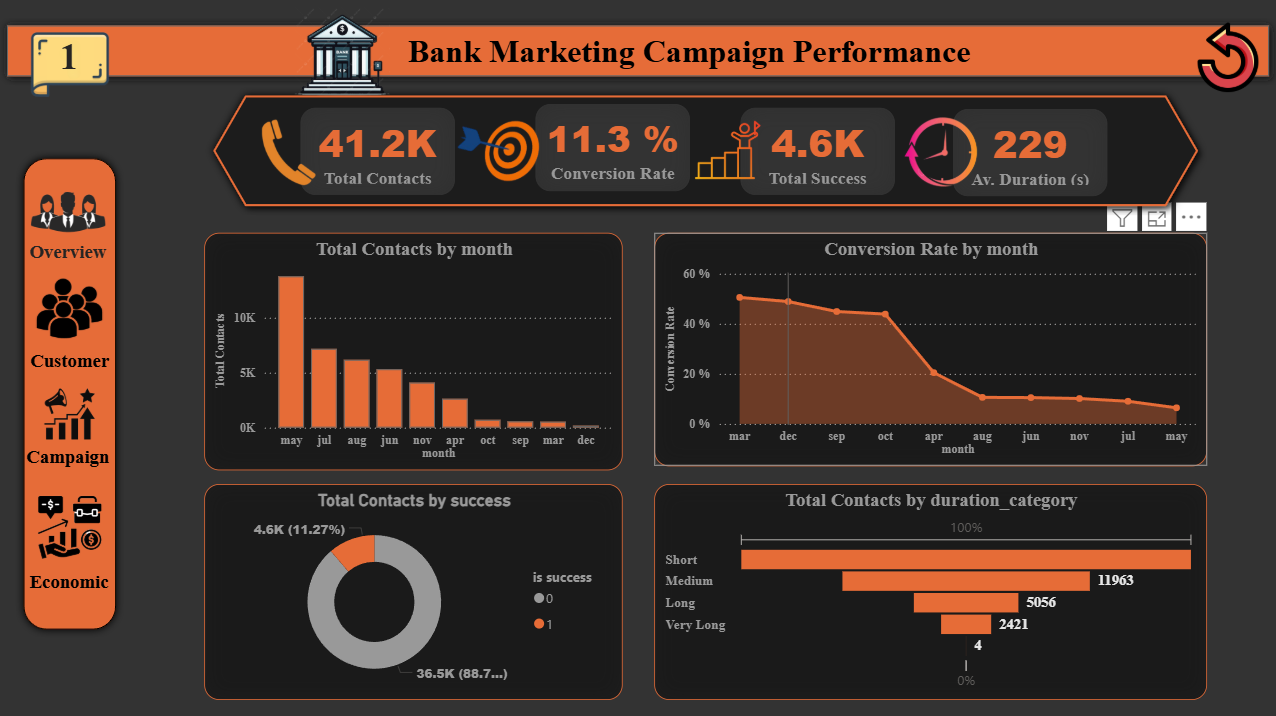

What the dashboard file says about the page in this screenshot:
{"tool":"powerbi","page":{"name":"Overview","canvas":[1280,720],"ordinal":0},"visuals":[{"type":"group","id":"g1","title":"Group 1","box":[0,0,1280,141.2],"z":0},{"type":"card","fields":{"Values":["BM-Measures.Total Contacts"]},"box":[302.9,109.4,154.3,87.1],"z":0,"group":"g2"},{"type":"shape","box":[16.9,150.8,108.6,487.4],"z":0,"group":"g3"},{"type":"card","fields":{"Values":["BM-Measures.Conversion Rate"]},"box":[537.4,105.5,154.3,87.1],"z":1000,"group":"g2"},{"type":"lineChart","fields":{"Category":["DimDate.month"],"Y":["BM-Measures.Conversion Rate"]},"box":[656.2,233.8,552.5,233.8],"z":1000},{"type":"textbox","box":[21.4,237.2,97.1,41.4],"z":1000,"group":"g3"},{"type":"shape","box":[0,18.1,1280,68.8],"z":1500,"group":"g1"},{"type":"image","box":[0,0,143.6,141.2],"z":2000,"group":"g1"},{"type":"shape","box":[205.7,87.1,1002.9,128.6],"z":2000},{"type":"card","fields":{"Values":["BM-Measures.Total Success"]},"box":[742.9,109.1,154.3,87.1],"z":2000,"group":"g2"},{"type":"image","box":[21.7,166.5,97.7,94.1],"z":2000,"group":"g3"},{"type":"textbox","box":[35,31.4,72.4,55.5],"z":2500,"group":"g1"},{"type":"card","fields":{"Values":["BM-Measures.Average Duration"]},"box":[955.8,110.5,154.3,87.1],"z":2500,"group":"g2"},{"type":"image","box":[290.8,0,106.2,109.8],"z":3000,"group":"g1"},{"type":"group","id":"g2","title":"Group 3","box":[302.9,105.5,807.1,92.1],"z":3000},{"type":"image","box":[7.2,265.9,127.9,85.7],"z":3000,"group":"g3"},{"type":"textbox","box":[405.4,29,589.9,49.5],"z":3500,"group":"g1"},{"type":"image","box":[1179.9,19.3,100.1,79.6],"z":4000,"group":"g1"},{"type":"columnChart","fields":{"Category":["DimDate.month"],"Y":["BM-Measures.Total Contacts"]},"box":[206.2,233.8,418.8,237.5],"z":4000},{"type":"textbox","box":[18.6,345.4,105.7,34.3],"z":4000,"group":"g3"},{"type":"image","box":[0,351.6,143.6,115.8],"z":5000,"group":"g3"},{"type":"donutChart","title":"Total Contacts by success","fields":{"Category":["FactBankMarketing.is_success"],"Y":["BM-Measures.Total Contacts"]},"box":[206.2,485,418.8,216.2],"z":5000},{"type":"textbox","box":[15.7,441.5,107.1,35.7],"z":6000,"group":"g3"},{"type":"funnel","fields":{"Category":["FactBankMarketing.duration_category"],"Y":["BM-Measures.Total Contacts"]},"box":[656.2,485,552.5,216.2],"z":6000},{"type":"image","box":[250,105.7,81.4,94.3],"z":7000},{"type":"textbox","box":[22.9,567.2,97.1,40],"z":7000,"group":"g3"},{"type":"image","box":[447.1,100,105.7,104.3],"z":8000},{"type":"image","box":[33.8,490.3,76,79.6],"z":8000,"group":"g3"},{"type":"image","box":[677.1,112.9,104.3,77.1],"z":9000},{"type":"image","box":[868.6,84.3,148.6,138.6],"z":10000},{"type":"group","id":"g3","title":"Group 2","box":[0,150.8,143.6,487.4],"z":11000}]}

Visuals, with their boxes in screenshot pixels (x1, y1, x2, y2), scaled from the page's 1280x720 canvas onto the 1276x716 screenshot:
"Group 1" group: pyautogui.locateOnScreen(0, 0, 1275, 140)
card - BM-Measures.Total Contacts: pyautogui.locateOnScreen(302, 109, 456, 195)
shape: pyautogui.locateOnScreen(17, 150, 125, 635)
card - BM-Measures.Conversion Rate: pyautogui.locateOnScreen(536, 105, 690, 192)
lineChart - DimDate.month x BM-Measures.Conversion Rate: pyautogui.locateOnScreen(654, 233, 1205, 465)
textbox: pyautogui.locateOnScreen(21, 236, 118, 277)
shape: pyautogui.locateOnScreen(0, 18, 1275, 86)
image: pyautogui.locateOnScreen(0, 0, 143, 140)
shape: pyautogui.locateOnScreen(205, 87, 1205, 215)
card - BM-Measures.Total Success: pyautogui.locateOnScreen(741, 108, 894, 195)
image: pyautogui.locateOnScreen(22, 166, 119, 259)
textbox: pyautogui.locateOnScreen(35, 31, 107, 86)
card - BM-Measures.Average Duration: pyautogui.locateOnScreen(953, 110, 1107, 197)
image: pyautogui.locateOnScreen(290, 0, 396, 109)
"Group 3" group: pyautogui.locateOnScreen(302, 105, 1107, 197)
image: pyautogui.locateOnScreen(7, 264, 135, 350)
textbox: pyautogui.locateOnScreen(404, 29, 992, 78)
image: pyautogui.locateOnScreen(1176, 19, 1275, 98)
columnChart - DimDate.month x BM-Measures.Total Contacts: pyautogui.locateOnScreen(206, 233, 623, 469)
textbox: pyautogui.locateOnScreen(19, 343, 124, 378)
image: pyautogui.locateOnScreen(0, 350, 143, 465)
"Total Contacts by success" donutChart: pyautogui.locateOnScreen(206, 482, 623, 697)
textbox: pyautogui.locateOnScreen(16, 439, 122, 475)
funnel - FactBankMarketing.duration_category x BM-Measures.Total Contacts: pyautogui.locateOnScreen(654, 482, 1205, 697)
image: pyautogui.locateOnScreen(249, 105, 330, 199)
textbox: pyautogui.locateOnScreen(23, 564, 120, 604)
image: pyautogui.locateOnScreen(446, 99, 551, 203)
image: pyautogui.locateOnScreen(34, 488, 109, 567)
image: pyautogui.locateOnScreen(675, 112, 779, 189)
image: pyautogui.locateOnScreen(866, 84, 1014, 222)
"Group 2" group: pyautogui.locateOnScreen(0, 150, 143, 635)
